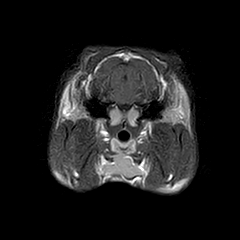Brain: (76, 32, 175, 130)
